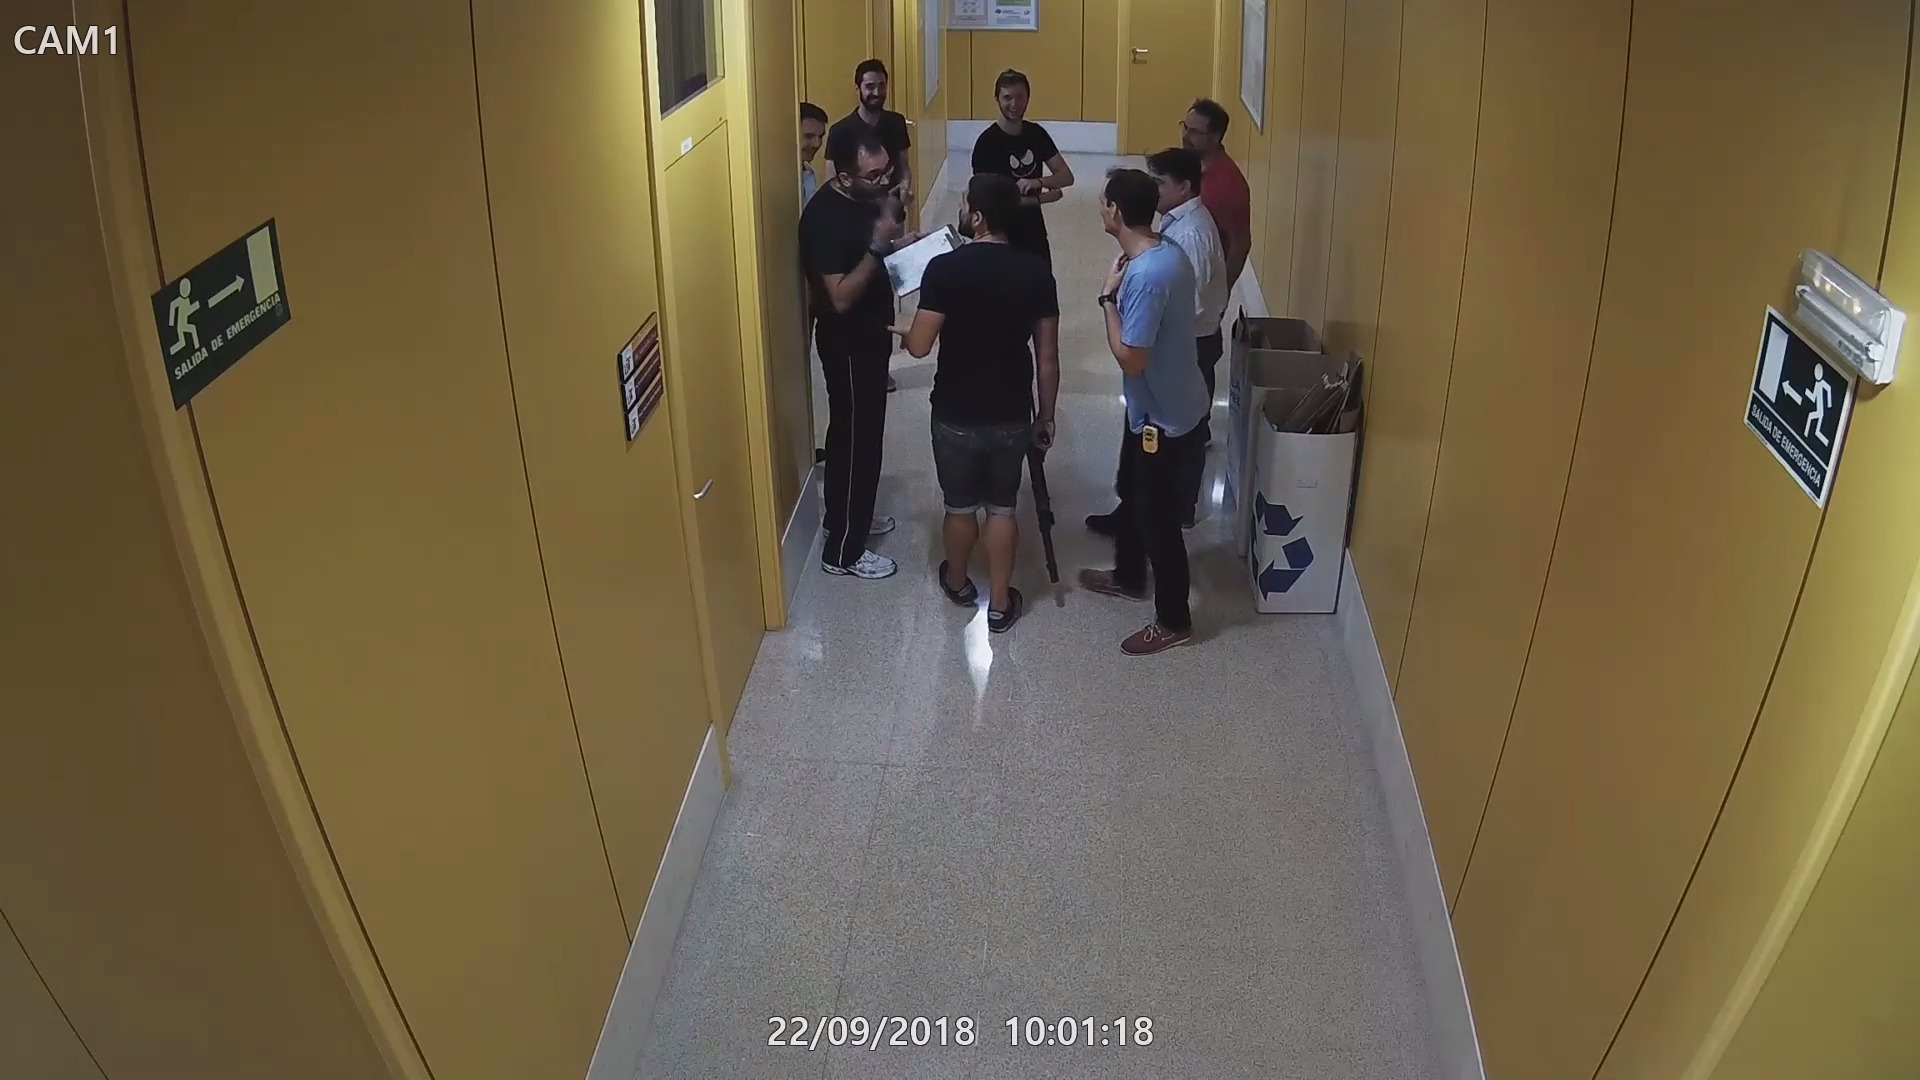Short_rifle: (1025, 411, 1065, 589)
